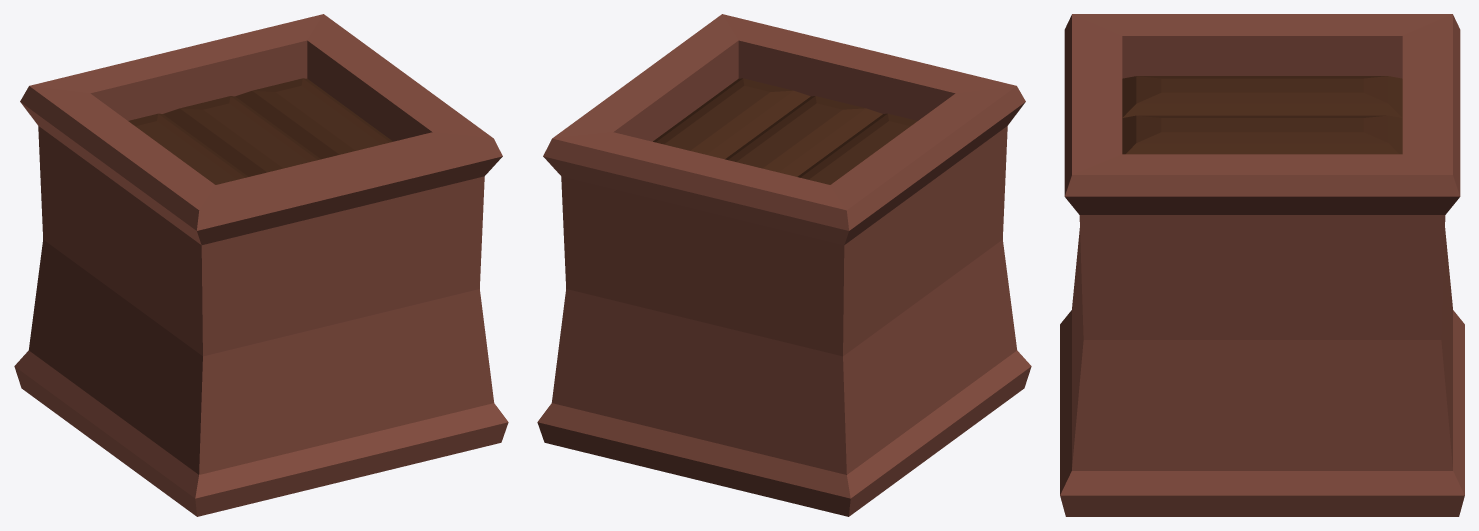
The model's file is planter.glb.
3 views of the same model, side by side, from view 1: azimuth 30°, elevation 25°; view 2: azimuth 150°, elevation 25°; view 3: azimuth 270°, elevation 25° (orthographic). The views are drawn at different scales.
Visible parts, largest first — view 1: Pot, Soil; view 2: Pot, Soil; view 3: Pot, Soil.
Part boxes in pixels (x1,y1,x2,y2): Pot: (14, 14, 508, 516); Soil: (128, 78, 392, 184); Pot: (537, 14, 1031, 516); Soil: (653, 78, 917, 184); Pot: (1060, 14, 1464, 516); Soil: (1122, 76, 1402, 154).
Size of the model in its own units: 0.8665 by 0.8016 by 0.8665.
